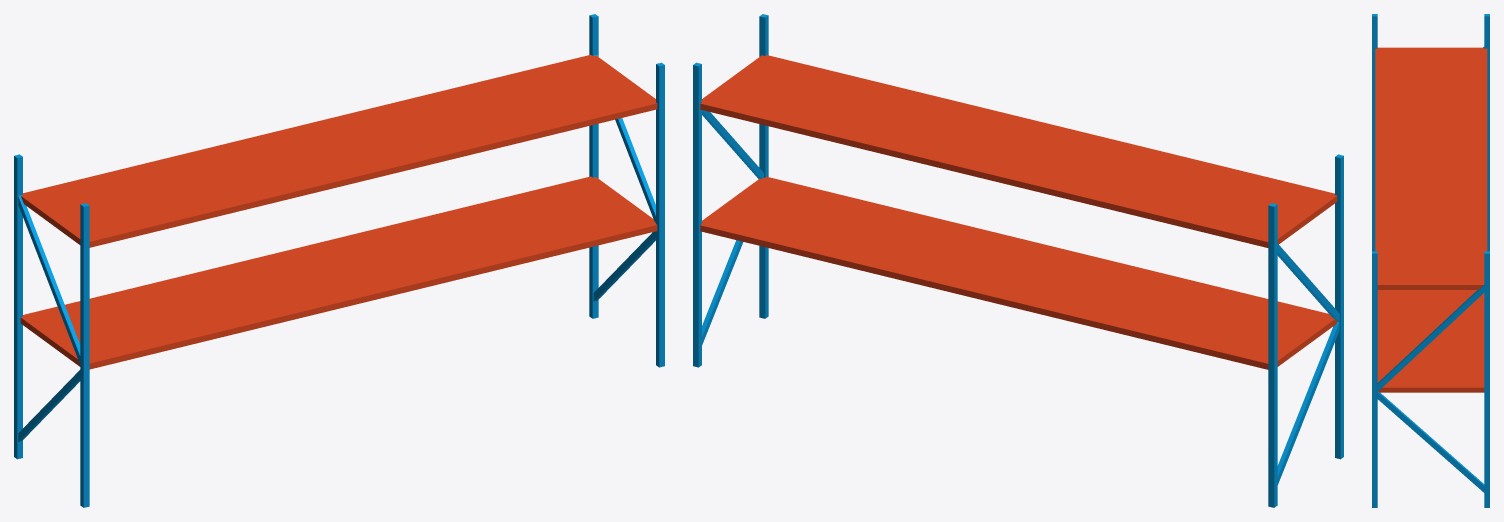
The model's file is Racks.fbx.
The picture shows the model from 3 angles, left to right: view 1: azimuth 30°, elevation 25°; view 2: azimuth 150°, elevation 25°; view 3: azimuth 270°, elevation 25°; orthographic projection. The views are drawn at different scales.
Visible parts, largest first — view 1: Cube.007, Cube.006, Cube.002, Cube.001, Cube, Cube.003, Cube.005, Cube.008, Cube.004, Cube.009; view 2: Cube.007, Cube.006, Cube, Cube.003, Cube.002, Cube.001, Cube.004, Cube.009, Cube.005, Cube.008; view 3: Cube.007, Cube.006, Cube.001, Cube.003, Cube.008, Cube.009, Cube.002, Cube.
Part boxes in pixels (box(x1,y1,x2,y2)): Cube.007: box(21, 54, 657, 247); Cube.006: box(20, 176, 657, 369); Cube.002: box(80, 203, 89, 507); Cube.001: box(656, 62, 664, 367); Cube: box(14, 154, 22, 459); Cube.003: box(589, 14, 598, 318); Cube.005: box(18, 195, 80, 364); Cube.008: box(593, 54, 655, 222); Cube.004: box(18, 370, 80, 441); Cube.009: box(593, 231, 655, 301); Cube.007: box(700, 55, 1337, 247); Cube.006: box(700, 176, 1337, 369); Cube: box(1268, 203, 1277, 507); Cube.003: box(693, 62, 701, 367); Cube.002: box(1335, 154, 1343, 459); Cube.001: box(759, 14, 768, 318); Cube.004: box(1277, 321, 1339, 484); Cube.009: box(702, 240, 743, 344); Cube.005: box(1277, 243, 1339, 321); Cube.008: box(702, 110, 763, 178); Cube.007: box(1375, 47, 1487, 289); Cube.006: box(1377, 290, 1484, 392); Cube.001: box(1372, 251, 1377, 507); Cube.003: box(1484, 251, 1489, 507); Cube.008: box(1377, 284, 1484, 391); Cube.009: box(1377, 391, 1484, 492); Cube.002: box(1372, 14, 1377, 251); Cube: box(1484, 14, 1489, 251).
Size of the model in its own units: 1010 by 500 by 210.
